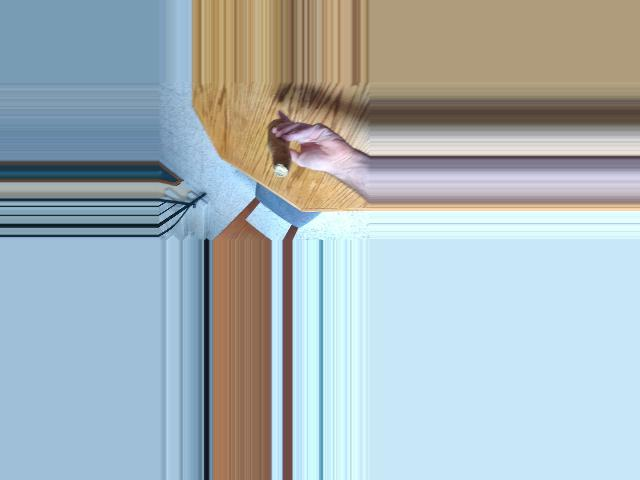sweet_potato: (267, 122, 293, 167)
